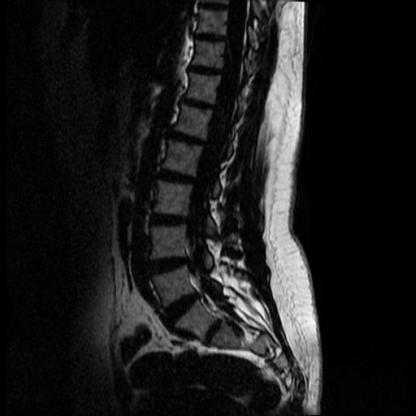Annular Disc Relaxationrotation: (160, 293, 202, 319), (200, 323, 229, 339)
Degenerative Disc Diseaserotation: (160, 293, 202, 320), (159, 168, 197, 188), (200, 323, 229, 339)
Disc Bulgerotation: (159, 168, 197, 188)
